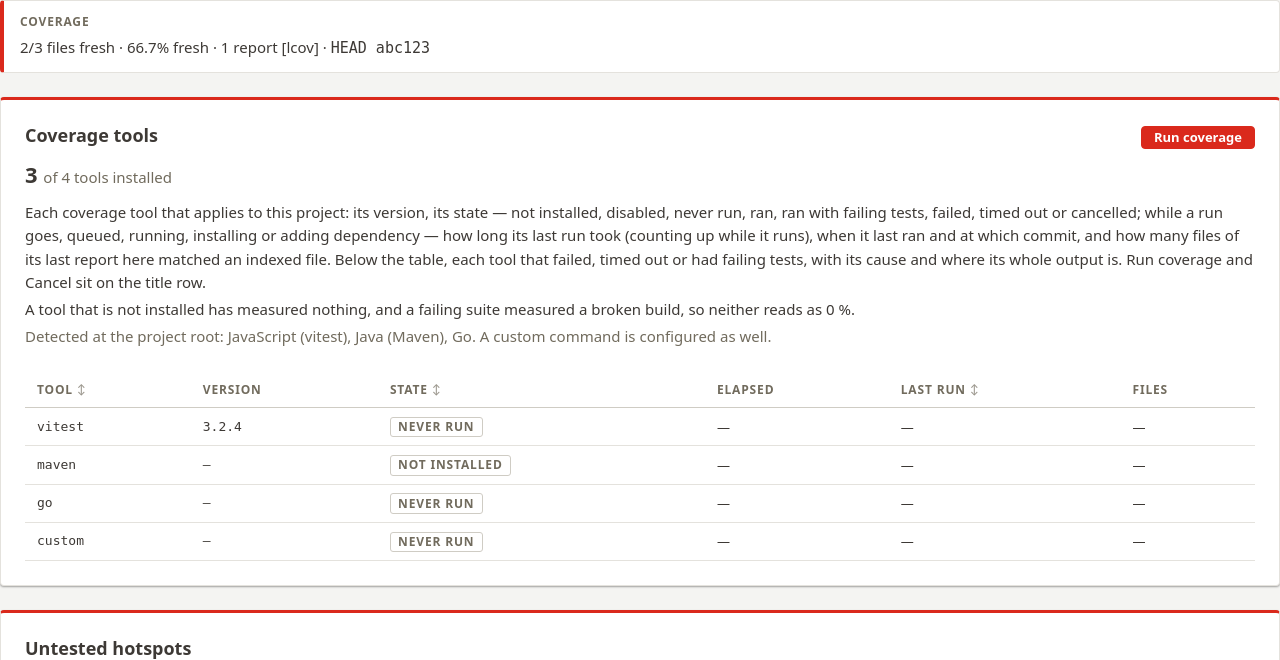
Test: Run coverage on the Coverage page (S-739) › asks the execution consent on first use, then starts with exactly what it showed and streams each tool
Click the button "Run coverage".
click(1198, 137)  # box [1141,126,1255,149]
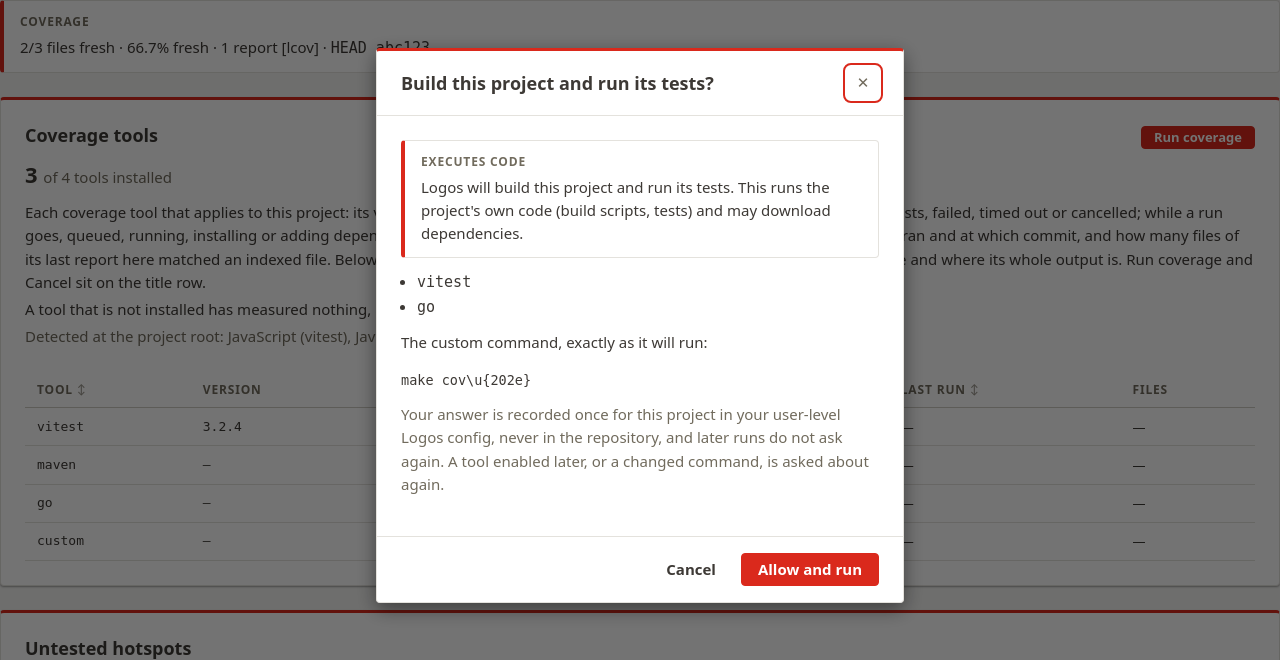
Check: the list named "Tools that will run" reads "vitest go", box [417,273,471,316]
Check: the text named "The custom command, exactly as it will run:" reads "make cov\\u{202e}", box [401,372,531,388]
Click the button "Allow and run".
click(810, 570)  # box [741,553,879,586]
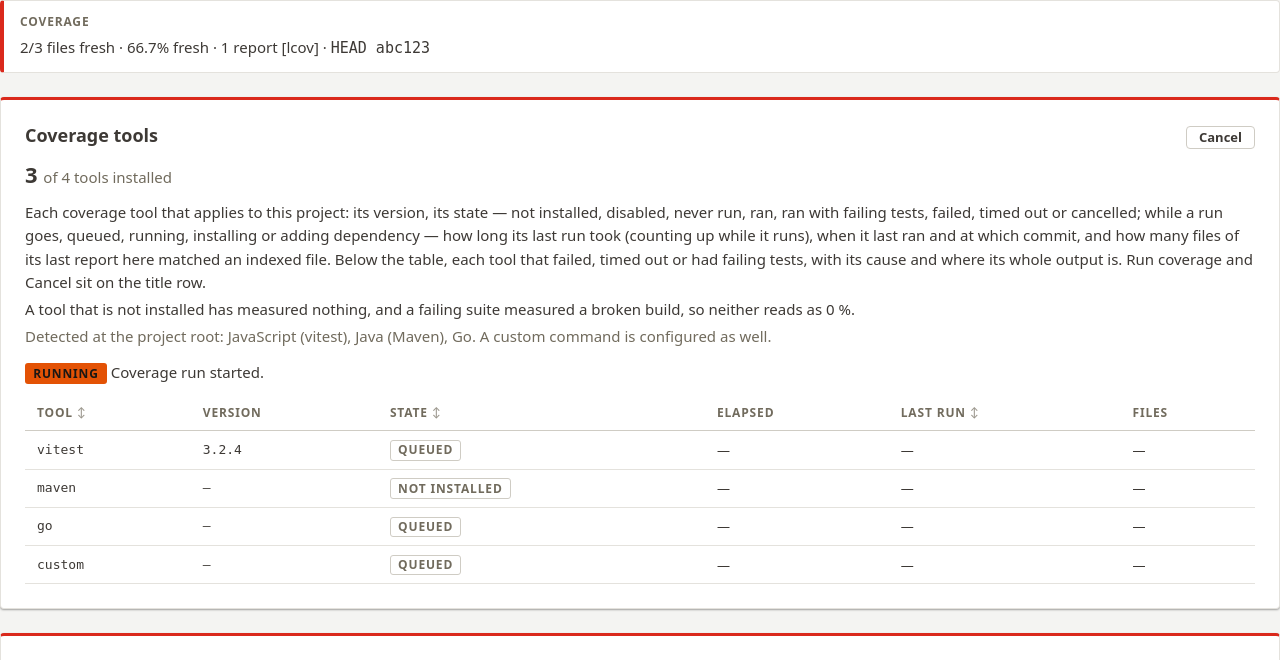
Check: the button "Cancel" is shown, box [1186,126,1255,149]
Check: the dialog is gone
